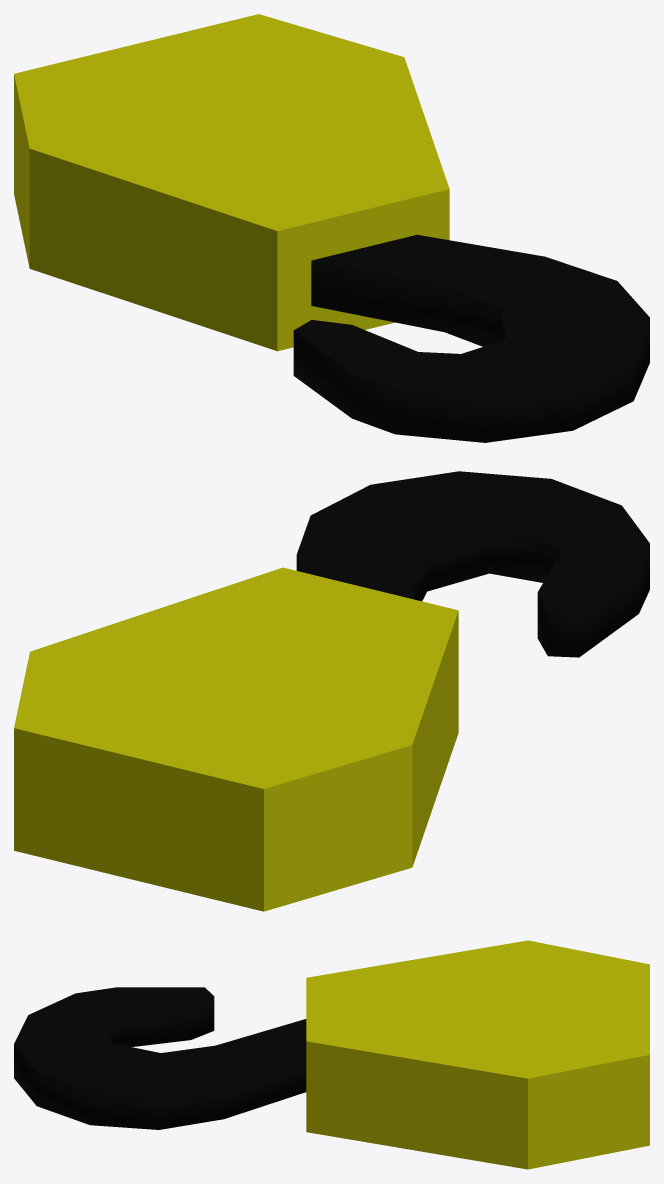
File: hook.dae
The picture shows the model from 3 angles, top to bottom: view 1: azimuth 30°, elevation 25°; view 2: azimuth 150°, elevation 25°; view 3: azimuth 270°, elevation 25°; orthographic projection. The views are drawn at different scales.
Parts seen in each view (by area): view 1: Hook; view 2: Hook; view 3: Hook.
Boxes of the visible parts, box(x1,y1,x2,y2) form: Hook: box(14, 14, 649, 442); Hook: box(14, 471, 649, 911); Hook: box(14, 940, 649, 1169).
Bounding box in the file's own units: 0.3271 × 0.6358 × 0.1002.
